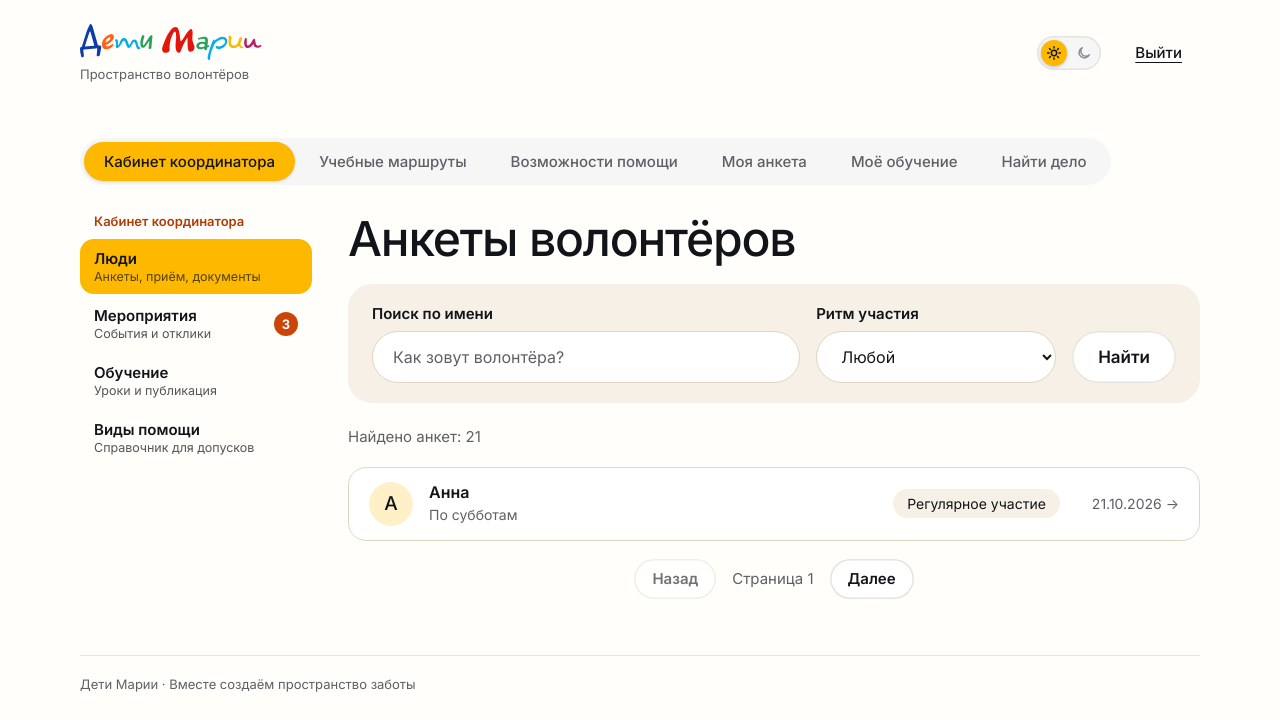
Scenario: staff login and coordinator workspace › resets pagination when applying a new name and regularity filter
The image size is (1280, 720).
Click the button "Далее": (872, 579) [830, 559, 914, 599]
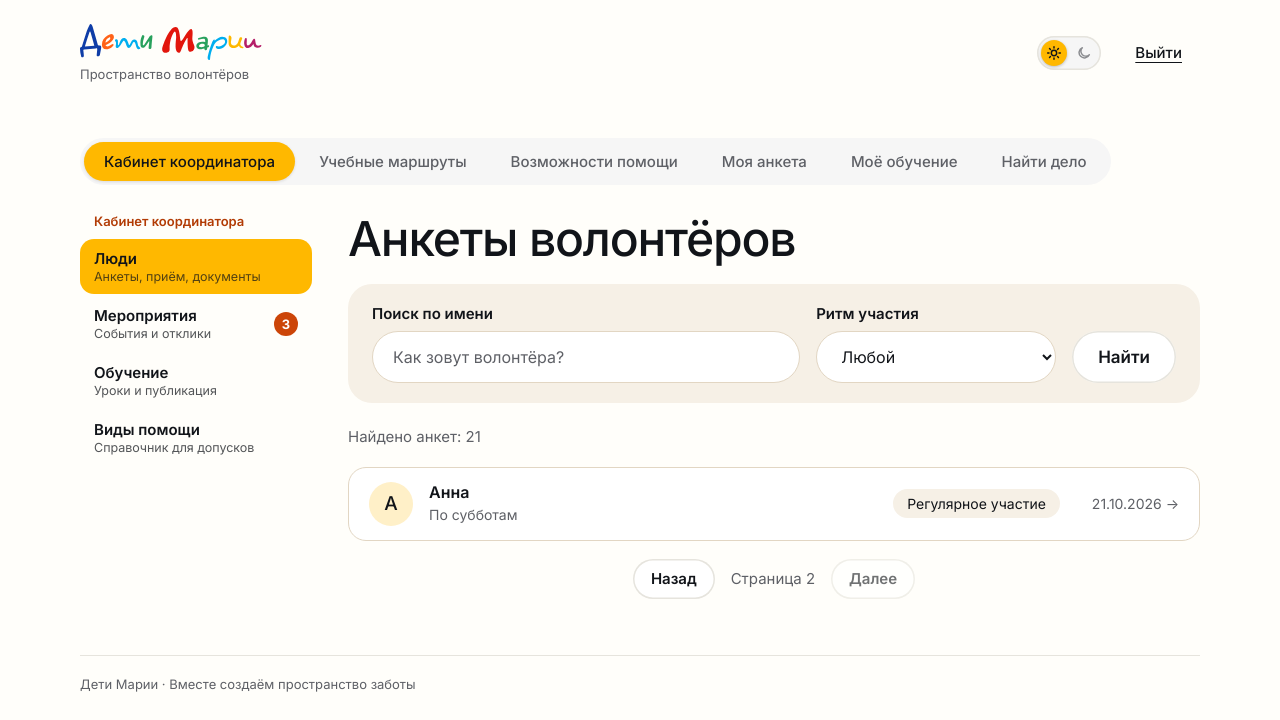
Expected: the text "Страница 2" is shown, [731, 569, 815, 588]
In the field labelled "Поиск по имени": (586, 357) [372, 331, 800, 383], type "Анна"
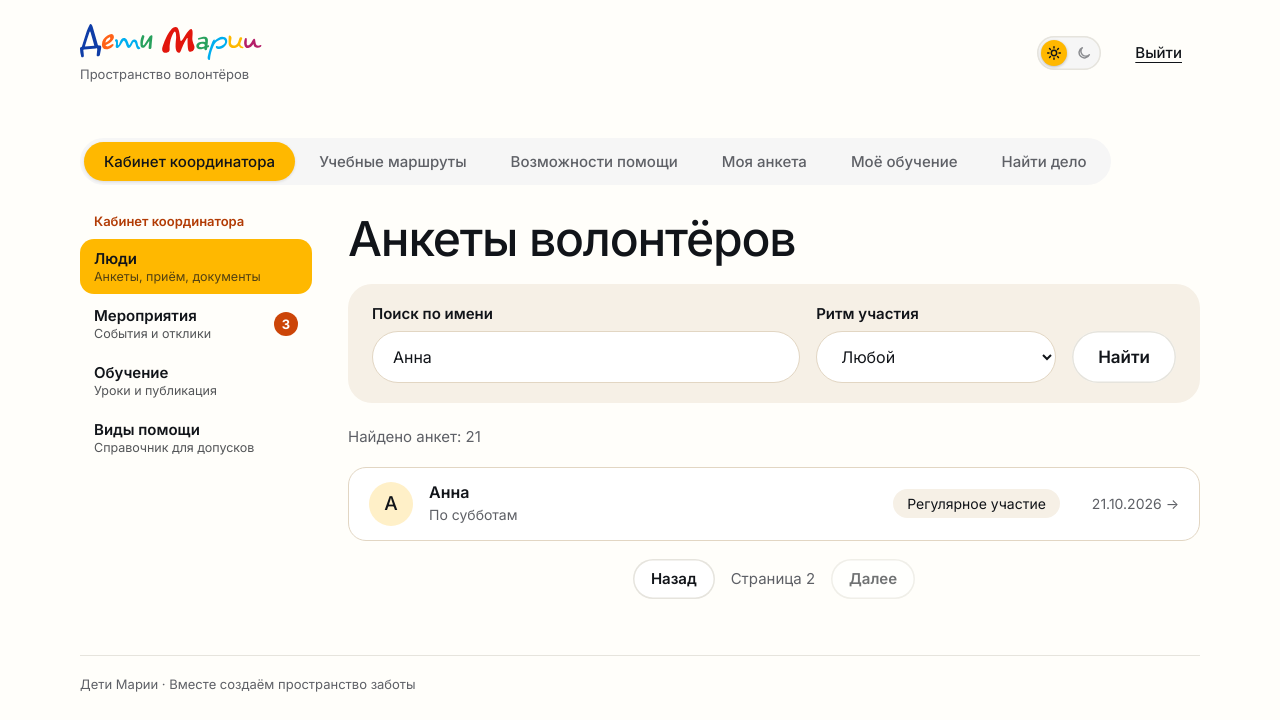
Select "Регулярное участие" in the dropdown labelled "Ритм участия": (936, 357) [816, 331, 1056, 383]
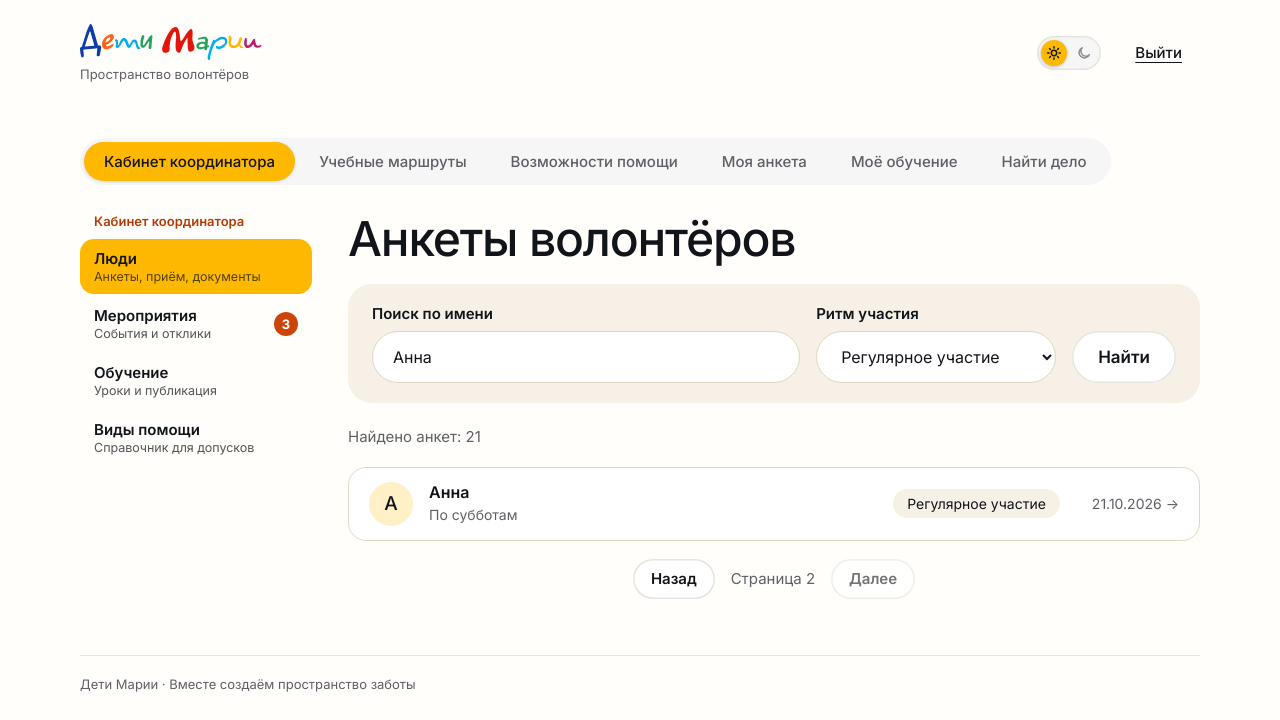
Click the button "Найти": (1124, 357) [1072, 331, 1176, 383]
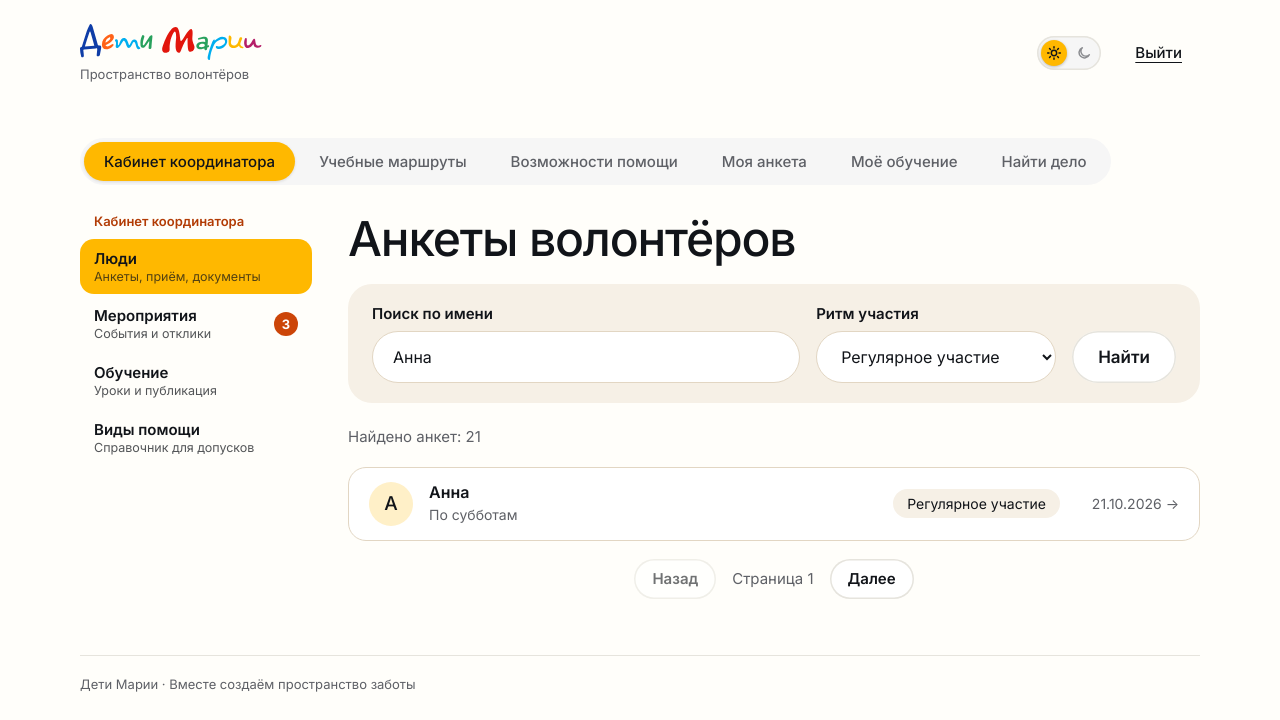
Expected: the text "Страница 1" is shown, [732, 569, 814, 588]
